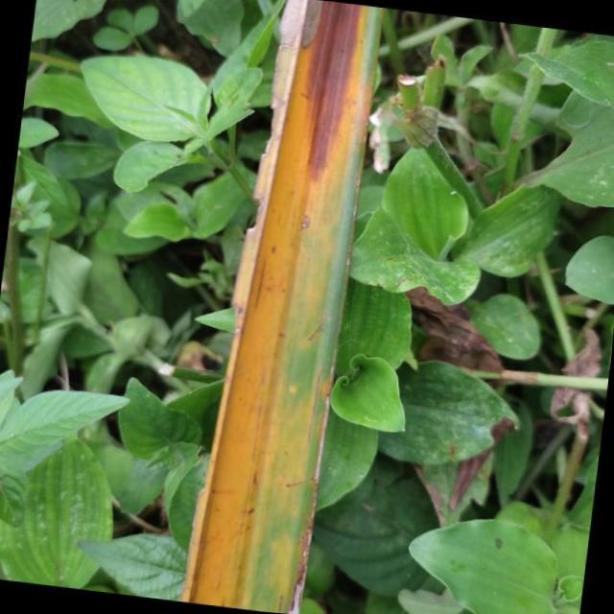Megnesium: (178, 1, 385, 614)
